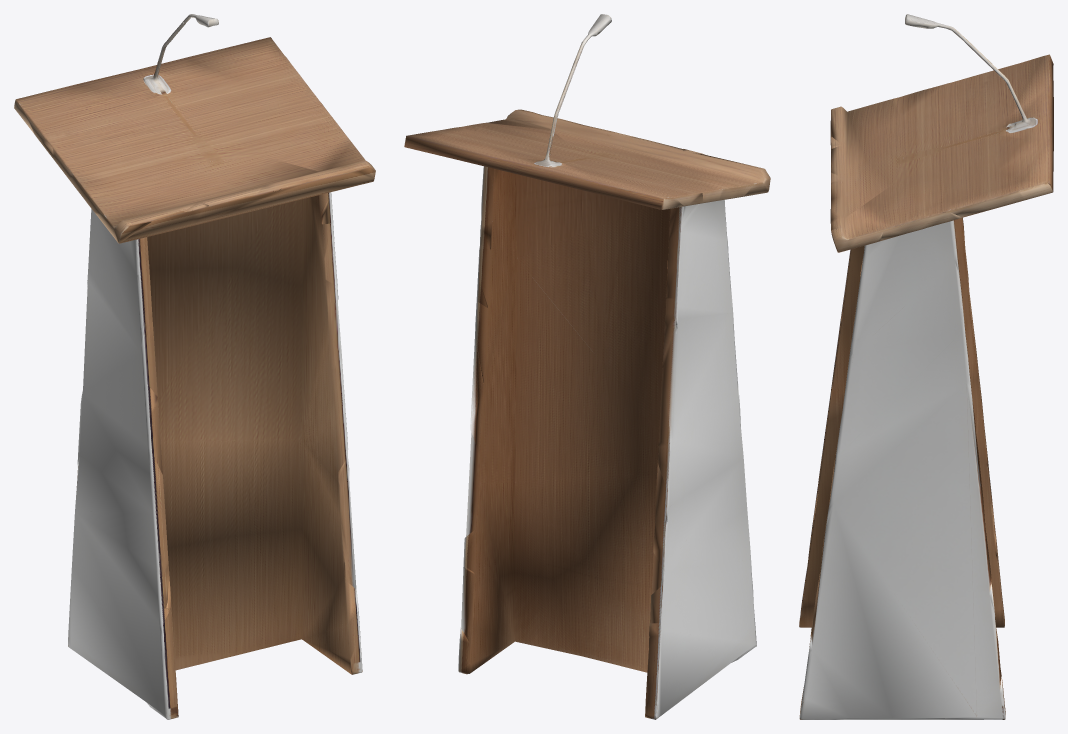
The model's file is podium.glb.
3 renders of one model, left to right at view 1: azimuth 30°, elevation 25°; view 2: azimuth 150°, elevation 25°; view 3: azimuth 270°, elevation 25°, orthographic. The views are drawn at different scales.
Visible parts, largest first — view 1: Mesh_0; view 2: Mesh_0; view 3: Mesh_0.
Boxes of the visible parts, x1,y1,x2,y2 form: Mesh_0: (14, 14, 375, 719); Mesh_0: (404, 14, 770, 719); Mesh_0: (799, 14, 1053, 719).
Bounding box in the file's own units: 1.47 × 3.5 × 1.23.
1 material, 1 textured.
